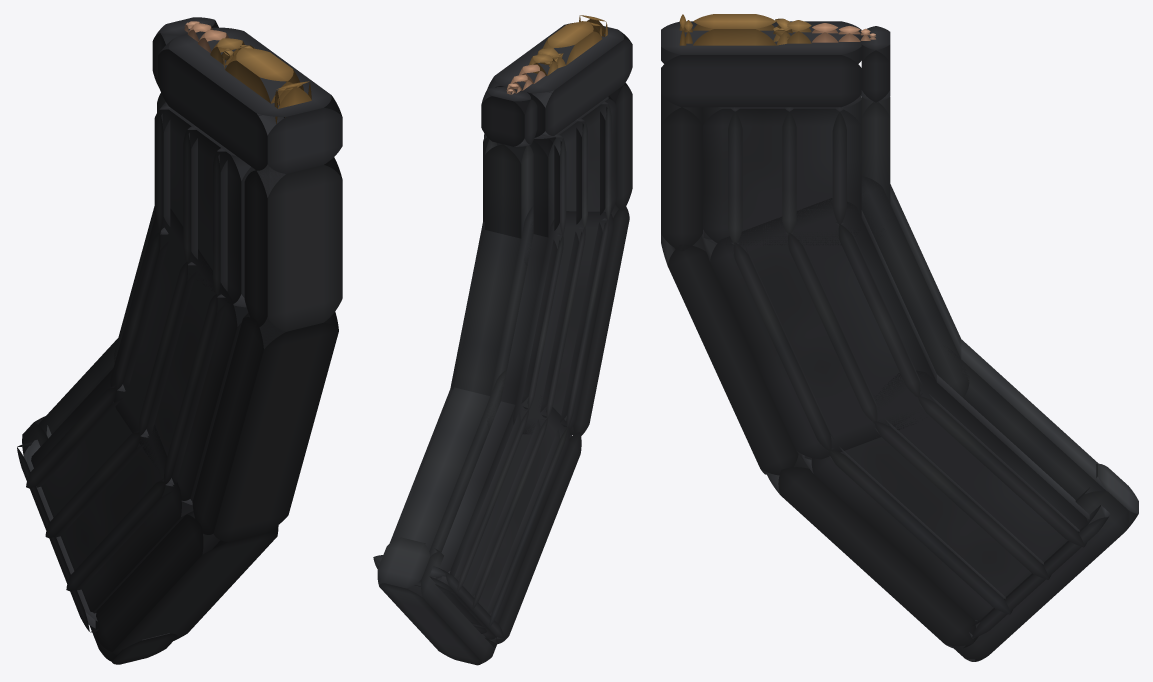
The model's file is ak47_mag_standard.fbx.
The picture shows the model from 3 angles, left to right: view 1: azimuth 30°, elevation 25°; view 2: azimuth 150°, elevation 25°; view 3: azimuth 270°, elevation 25°; orthographic projection. The views are drawn at different scales.
Visible parts, largest first — view 1: cube_11, cube_17, cube_9, cube_21, cube_3, cube_5, cube_15, cube_10, cube_7, cube_4, cube_8, cube_1 (+11 smaller); view 2: cube_9, cube_3, cube_6, cube, cube_21, cube_18, cube_15, cube_12, cube_11, cube_5, cube_20, cube_4 (+11 smaller); view 3: cube_9, cube_3, cube_15, cube_21, cube_11, cube_5, cube_6, cube, cube_18, cube_17, cube_4, cube_1 (+11 smaller).
Part boxes in pixels (box(x1,y1,x2,y2)): cube_11: box(192, 311, 338, 541); cube_17: box(244, 157, 342, 331); cube_9: box(110, 208, 285, 505); cube_21: box(158, 27, 342, 173); cube_3: box(31, 368, 220, 613); cube_5: box(95, 514, 278, 654); cube_15: box(154, 102, 285, 307); cube_10: box(164, 294, 248, 486); cube_7: box(139, 262, 195, 437); cube_4: box(66, 478, 193, 591); cube_8: box(115, 227, 168, 391); cube_1: box(45, 429, 148, 537); cube_9: box(450, 211, 613, 434); cube_3: box(389, 389, 569, 633); cube_6: box(454, 205, 533, 429); cube: box(394, 370, 506, 556); cube_21: box(487, 23, 632, 137); cube_18: box(377, 537, 496, 665); cube_15: box(483, 91, 617, 237); cube_12: box(485, 139, 533, 265); cube_11: box(569, 204, 629, 436); cube_5: box(485, 432, 581, 646); cube_20: box(481, 87, 537, 146); cube_4: box(471, 424, 567, 628); cube_9: box(703, 198, 936, 459); cube_3: box(802, 370, 1095, 621); cube_15: box(703, 94, 861, 245); cube_21: box(661, 21, 861, 107); cube_11: box(661, 234, 803, 475); cube_5: box(766, 454, 978, 648); cube_6: box(861, 176, 969, 397); cube: box(944, 339, 1107, 499); cube_18: box(952, 463, 1138, 661); cube_17: box(661, 94, 702, 250); cube_4: box(828, 446, 1012, 614); cube_1: box(874, 419, 1051, 579).
Size of the model in its own units: 8.65 by 59.95 by 40.93.
1 material, 1 textured.
